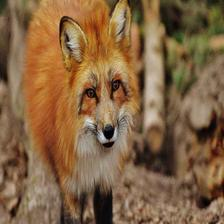fox: (22, 0, 146, 224)
